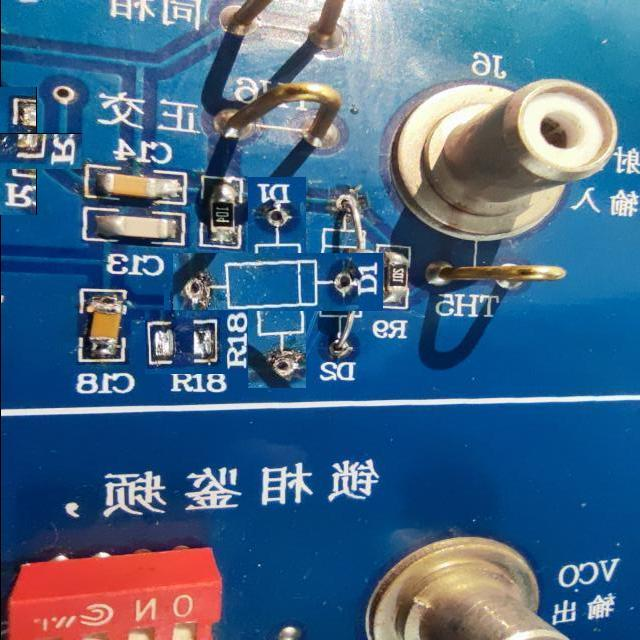miss_welding: (210, 215, 345, 350), (154, 300, 238, 384), (0, 109, 59, 192)
